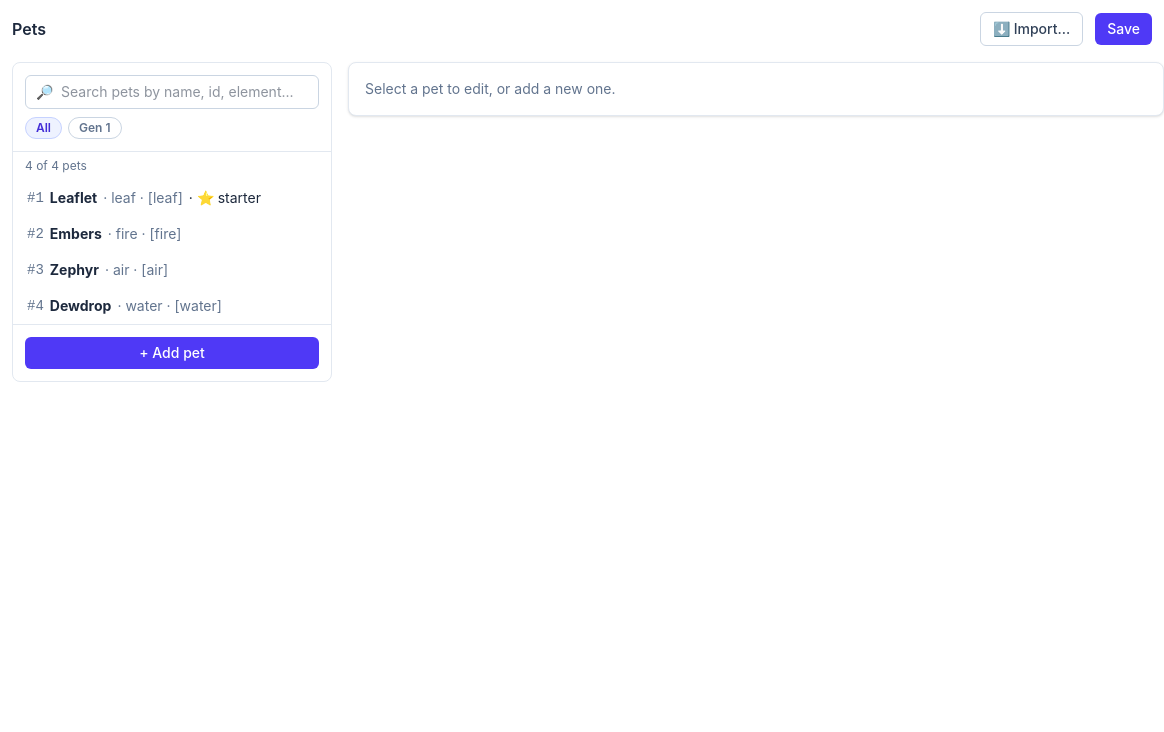
Test: PetsTab — add / delete / filter › Add creates a new def with a unique id and the next free dexNo
Click the button "+ Add pet" at (172, 353), box top-left (25, 337), bottom-right (319, 369)
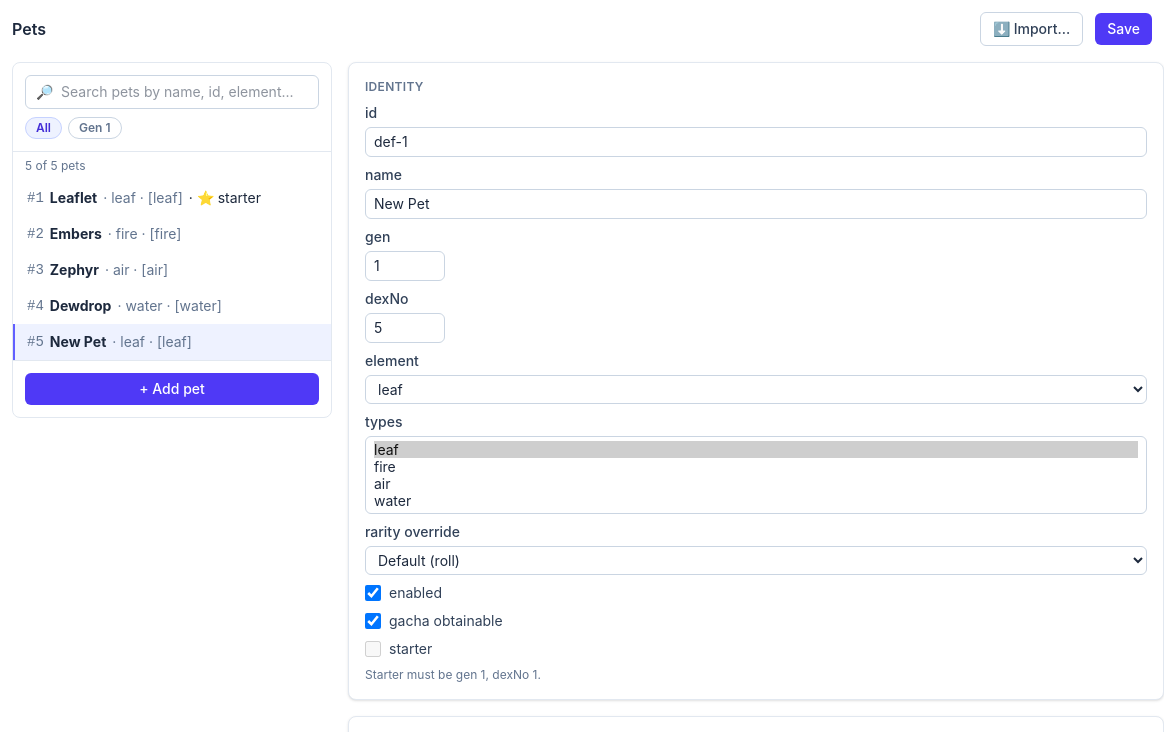
Result: the number of list items is 5 at top-left (13, 180), bottom-right (331, 216); top-left (13, 216), bottom-right (331, 252); top-left (13, 252), bottom-right (331, 288); top-left (13, 288), bottom-right (331, 324); top-left (13, 324), bottom-right (331, 360)
Result: the text "#5" is shown at top-left (27, 332), bottom-right (44, 352)
